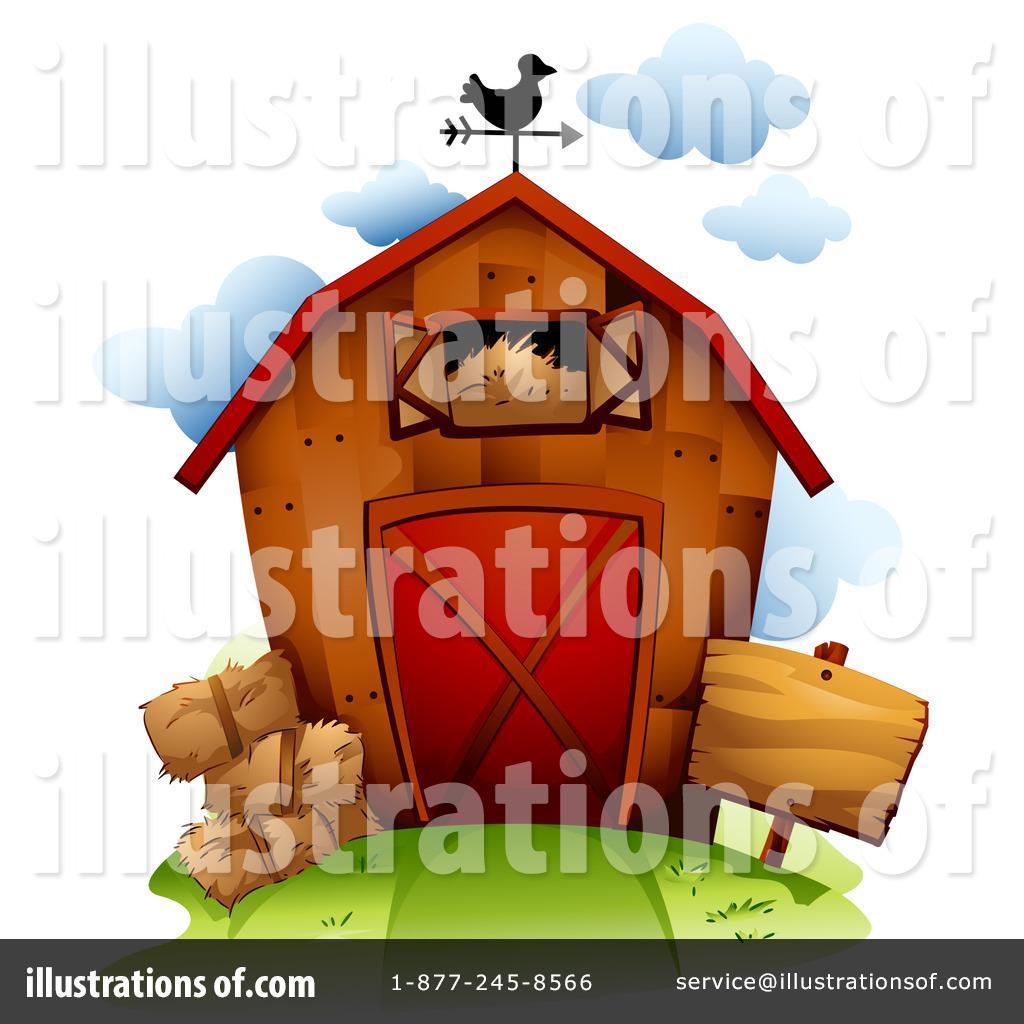bird: (445, 50, 564, 132)
